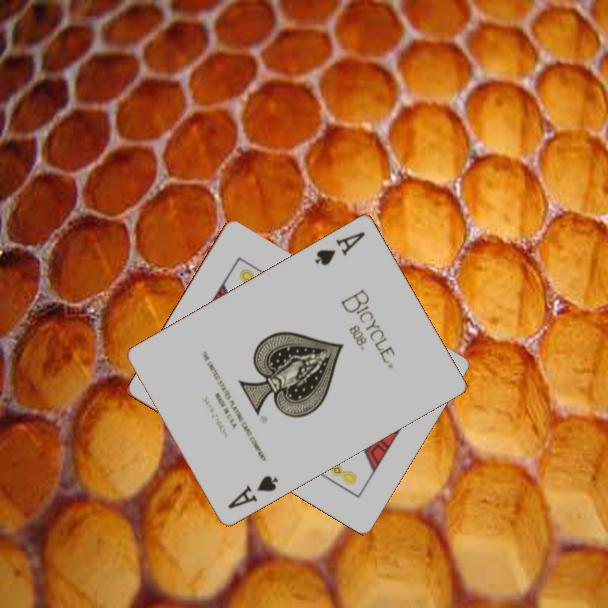s01: (311, 227, 368, 268), (224, 471, 281, 512)
